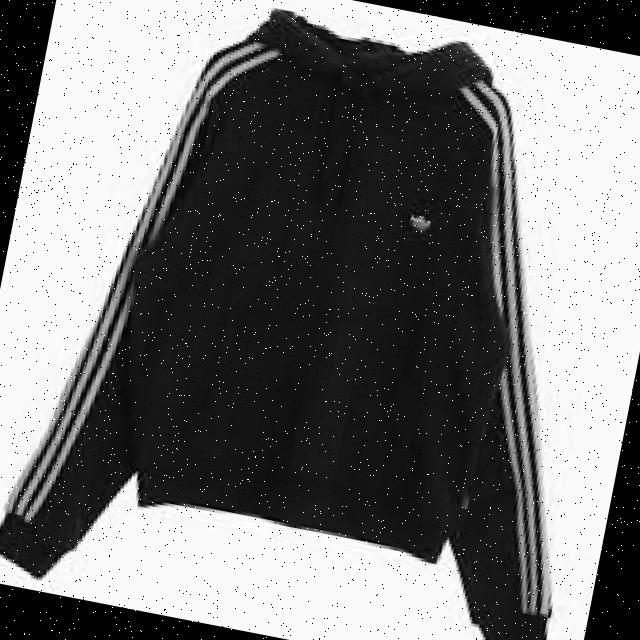Adidas: (408, 211, 430, 234)
